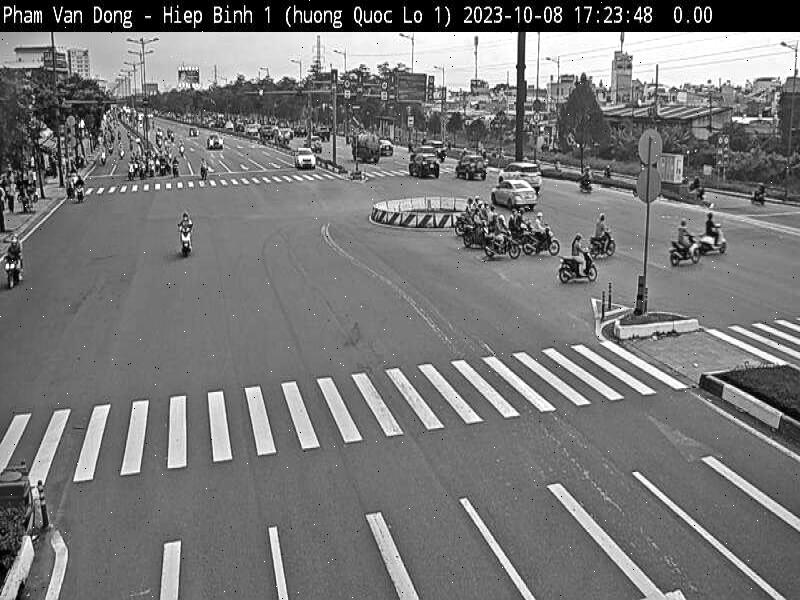car: (489, 178, 539, 215), (497, 162, 544, 192), (456, 152, 488, 181), (407, 154, 440, 180), (295, 144, 319, 172)
motorcycle: (558, 248, 602, 284), (697, 223, 734, 257), (484, 230, 521, 261), (524, 228, 562, 257), (668, 234, 704, 264), (587, 228, 620, 258), (2, 250, 22, 292), (180, 225, 196, 259)
truck: (351, 128, 385, 164)
